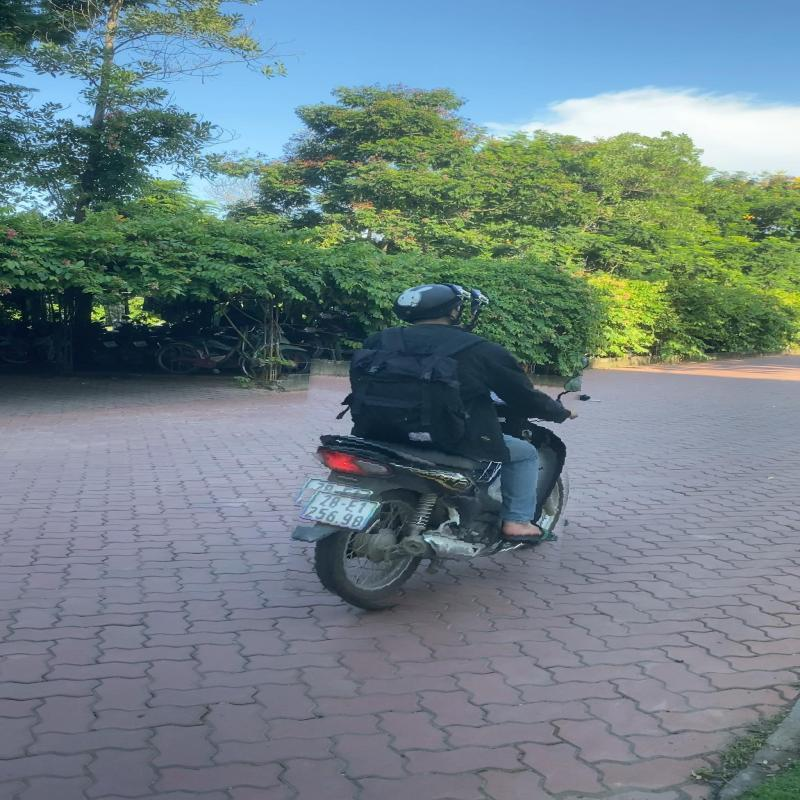helmet: (391, 281, 471, 325)
licenseplate: (299, 489, 382, 532)
motorcyclist: (292, 274, 582, 614)
